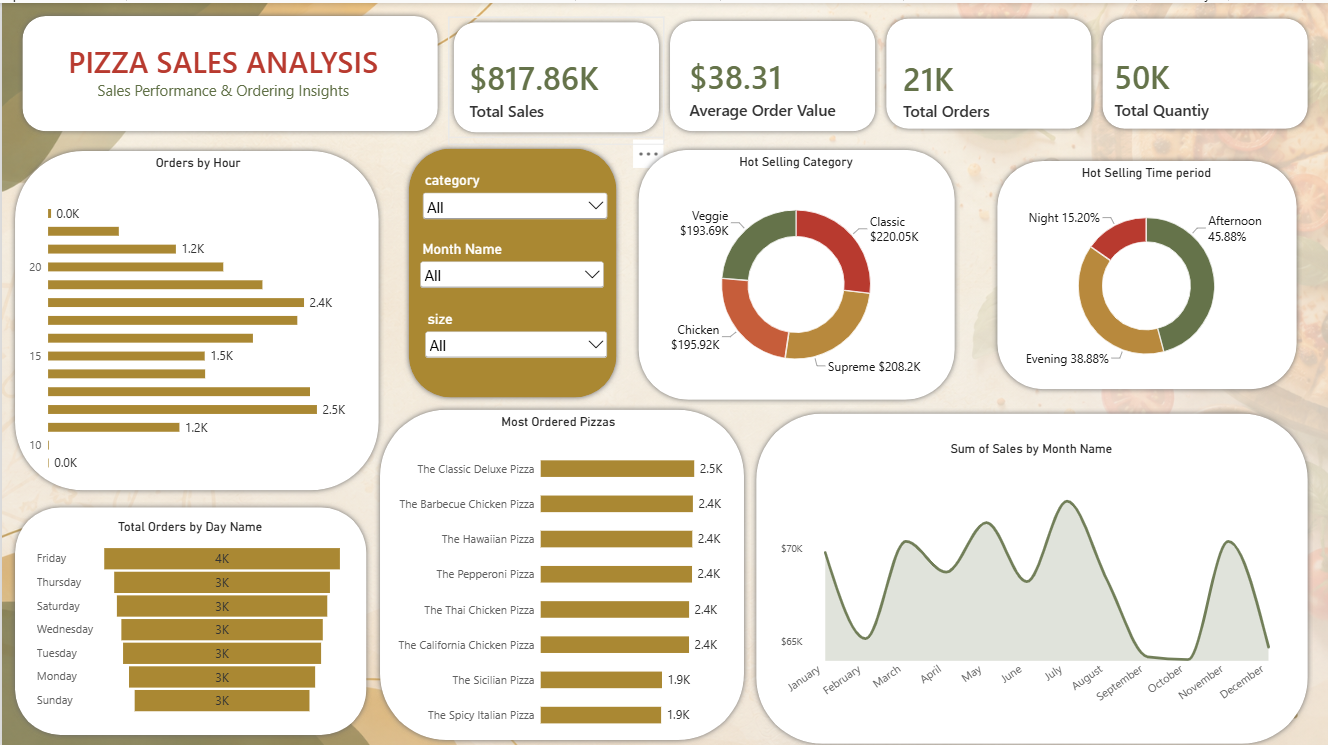

What the dashboard file says about the page in this screenshot:
{"tool":"powerbi","page":{"name":"Page 1","canvas":[1920,1080],"ordinal":0},"visuals":[{"type":"shape","box":[580.9,202.7,316.7,376.4],"z":0,"group":"g11"},{"type":"shape","box":[646,19.9,313.1,175.5],"z":500,"group":"g4"},{"type":"shape","box":[10.5,205.8,542.4,507.2],"z":500,"group":"g1"},{"type":"shape","box":[1084,586.3,814.3,494],"z":500,"group":"g10"},{"type":"shape","box":[10.9,722.1,524.8,345.6],"z":500,"group":"g2"},{"type":"cardVisual","fields":{"Data":["order_details.total sales"]},"box":[660.5,45.2,249.8,158.9],"z":1000,"group":"g4"},{"type":"shape","box":[898.3,190.1,505.8,408.1],"z":1000,"group":"g8"},{"type":"group","id":"g1","title":"Group 3","box":[10.5,205.8,542.4,514.5],"z":1000},{"type":"shape","box":[1417,206.3,481.4,376.4],"z":1000,"group":"g9"},{"type":"shape","box":[539.3,581.1,542.9,494],"z":1000,"group":"g3"},{"type":"shape","box":[1585.3,14.5,313.1,175.5],"z":2000,"group":"g7"},{"type":"group","id":"g2","title":"Group 3","box":[10.9,722.1,524.8,345.6],"z":2000},{"type":"shape","box":[1272.2,14.5,313.1,175.5],"z":3000,"group":"g6"},{"type":"slicer","fields":{"Values":["pizza_types.category"]},"box":[603.9,243.5,276.9,77.8],"z":3000,"group":"g11"},{"type":"group","id":"g3","title":"Group 4","box":[539.3,580.9,542.9,499.5],"z":3000},{"type":"shape","box":[959.1,18.1,313.1,175.5],"z":4000,"group":"g5"},{"type":"group","id":"g4","title":"Group 1","box":[646,19.9,313.1,184.6],"z":4000},{"type":"group","id":"g5","title":"Group 2","box":[959.1,18.1,345.6,184.6],"z":5000},{"type":"cardVisual","fields":{"Data":["order_details.average_order_value"]},"box":[979,43.4,325.7,159.3],"z":5000,"group":"g5"},{"type":"group","id":"g6","title":"Group 5","box":[1272.2,14.5,342,190],"z":6000},{"type":"cardVisual","fields":{"Data":["order_details.Total Orders"]},"box":[1288.3,45.1,325.7,159.3],"z":6000,"group":"g6"},{"type":"barChart","title":"Most Ordered Pizzas","fields":{"Category":["order_details.pizzas.pizza Name"],"Y":["Sum(order_details.quantity)"]},"box":[543.2,580.9,524.8,499.5],"z":6000,"group":"g3"},{"type":"barChart","title":"Orders by Hour ","fields":{"Category":["orders.Hour"],"Y":["order_details.Total Orders"]},"box":[21.3,206.6,524.4,512.8],"z":6002,"group":"g1"},{"type":"funnel","fields":{"Category":["orders.Day Name"],"Y":["order_details.Total Orders"]},"box":[33.8,733.4,475.8,311.5],"z":6002,"group":"g2"},{"type":"group","id":"g7","title":"Group 6","box":[1585.3,14.5,334.8,188.2],"z":7000},{"type":"cardVisual","fields":{"Data":["order_details.total_quantiy"]},"box":[1594.3,43.5,325.7,159.3],"z":7000,"group":"g7"},{"type":"group","id":"g8","title":"Group 7","box":[898.3,190.1,505.8,408.1],"z":8000},{"type":"group","id":"g9","title":"Group 7","box":[1417,206.3,481.4,376.4],"z":9000},{"type":"slicer","fields":{"Values":["orders.Month Name"]},"box":[600.6,344.3,275.1,77.8],"z":9000,"group":"g11"},{"type":"slicer","fields":{"Values":["pizzas.size"]},"box":[608.6,444.6,273.3,77.8],"z":10000,"group":"g11"},{"type":"group","id":"g10","title":"Group 8","box":[1084,586.3,814.3,494],"z":10000},{"type":"shape","box":[21.7,10.9,617.1,182.8],"z":10005,"group":"g12"},{"type":"group","id":"g11","title":"Group 9","box":[580.9,202.7,316.7,376.4],"z":11000},{"type":"donutChart","title":"Hot Selling Category","fields":{"Category":["pizzas.category"],"Y":["Sum(order_details.Sales)"]},"box":[934.7,204.8,431.7,368.9],"z":11000,"group":"g8"},{"type":"donutChart","title":"Hot Selling Time period","fields":{"Category":["orders.Time Period"],"Y":["Sum(order_details.quantity)"]},"box":[1451.6,219.9,410.8,340.2],"z":11000,"group":"g9"},{"type":"group","id":"g12","title":"Group 10","box":[21.7,10.9,617.1,182.8],"z":12000},{"type":"lineChart","fields":{"Category":["orders.Month Name"],"Y":["Sum(order_details.Sales)"]},"box":[1106.7,620.7,765.5,425.3],"z":13000,"group":"g10"},{"type":"textbox","box":[43.4,37.1,553.8,108.6],"z":13005,"group":"g12"}]}

Visuals, with their boxes in screenshot pixels (x1, y1, x2, y2), scaled from the page's 1920x1080 canvas onto the 1328x745 screenshot:
shape: Rect(402, 140, 621, 399)
shape: Rect(447, 14, 663, 135)
shape: Rect(7, 142, 382, 492)
shape: Rect(750, 404, 1313, 744)
shape: Rect(8, 498, 371, 737)
cardVisual - order_details.total sales: Rect(457, 31, 630, 141)
shape: Rect(621, 131, 971, 413)
"Group 3" group: Rect(7, 142, 382, 497)
shape: Rect(980, 142, 1313, 402)
shape: Rect(373, 401, 749, 742)
shape: Rect(1096, 10, 1313, 131)
"Group 3" group: Rect(8, 498, 371, 737)
shape: Rect(880, 10, 1096, 131)
slicer - pizza_types.category: Rect(418, 168, 609, 222)
"Group 4" group: Rect(373, 401, 749, 744)
shape: Rect(663, 12, 880, 134)
"Group 1" group: Rect(447, 14, 663, 141)
"Group 2" group: Rect(663, 12, 902, 140)
cardVisual - order_details.average_order_value: Rect(677, 30, 902, 140)
"Group 5" group: Rect(880, 10, 1116, 141)
cardVisual - order_details.Total Orders: Rect(891, 31, 1116, 141)
"Most Ordered Pizzas" barChart: Rect(376, 401, 739, 744)
"Orders by Hour " barChart: Rect(15, 143, 377, 496)
funnel - orders.Day Name x order_details.Total Orders: Rect(23, 506, 352, 721)
"Group 6" group: Rect(1096, 10, 1327, 140)
cardVisual - order_details.total_quantiy: Rect(1103, 30, 1327, 140)
"Group 7" group: Rect(621, 131, 971, 413)
"Group 7" group: Rect(980, 142, 1313, 402)
slicer - orders.Month Name: Rect(415, 238, 606, 291)
slicer - pizzas.size: Rect(421, 307, 610, 360)
"Group 8" group: Rect(750, 404, 1313, 744)
shape: Rect(15, 8, 442, 134)
"Group 9" group: Rect(402, 140, 621, 399)
"Hot Selling Category" donutChart: Rect(647, 141, 945, 396)
"Hot Selling Time period" donutChart: Rect(1004, 152, 1288, 386)
"Group 10" group: Rect(15, 8, 442, 134)
lineChart - orders.Month Name x Sum(order_details.Sales): Rect(765, 428, 1295, 722)
textbox: Rect(30, 26, 413, 101)
